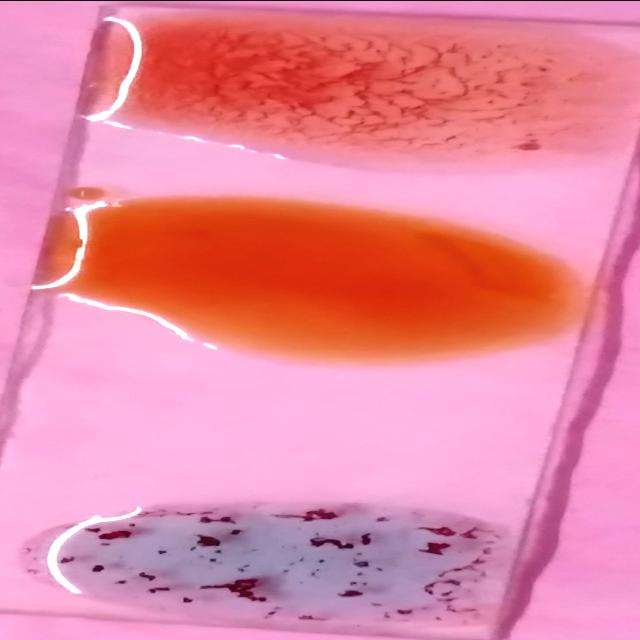A: (41, 506, 498, 619)
D: (112, 28, 601, 146)
